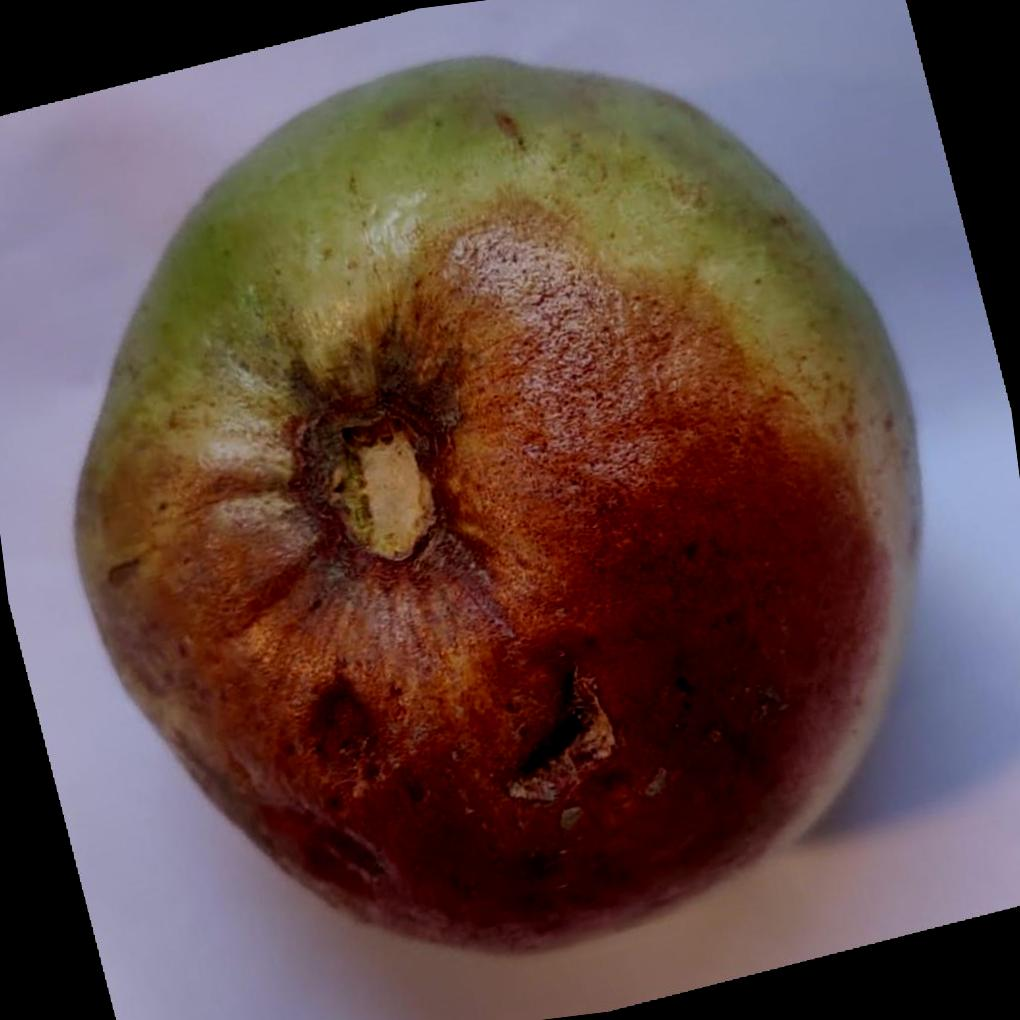FreshOrange: (70, 51, 925, 954)
